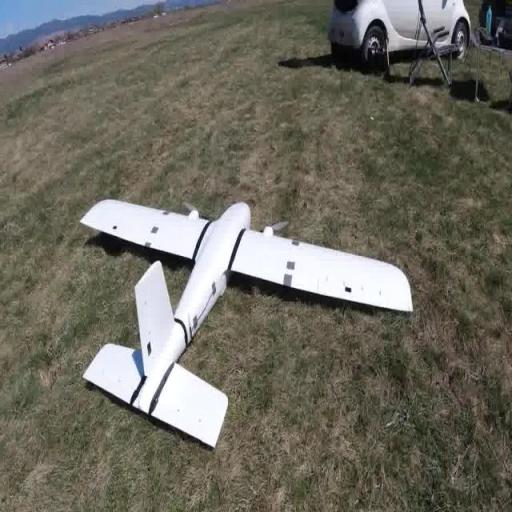uav: (68, 190, 414, 452)
